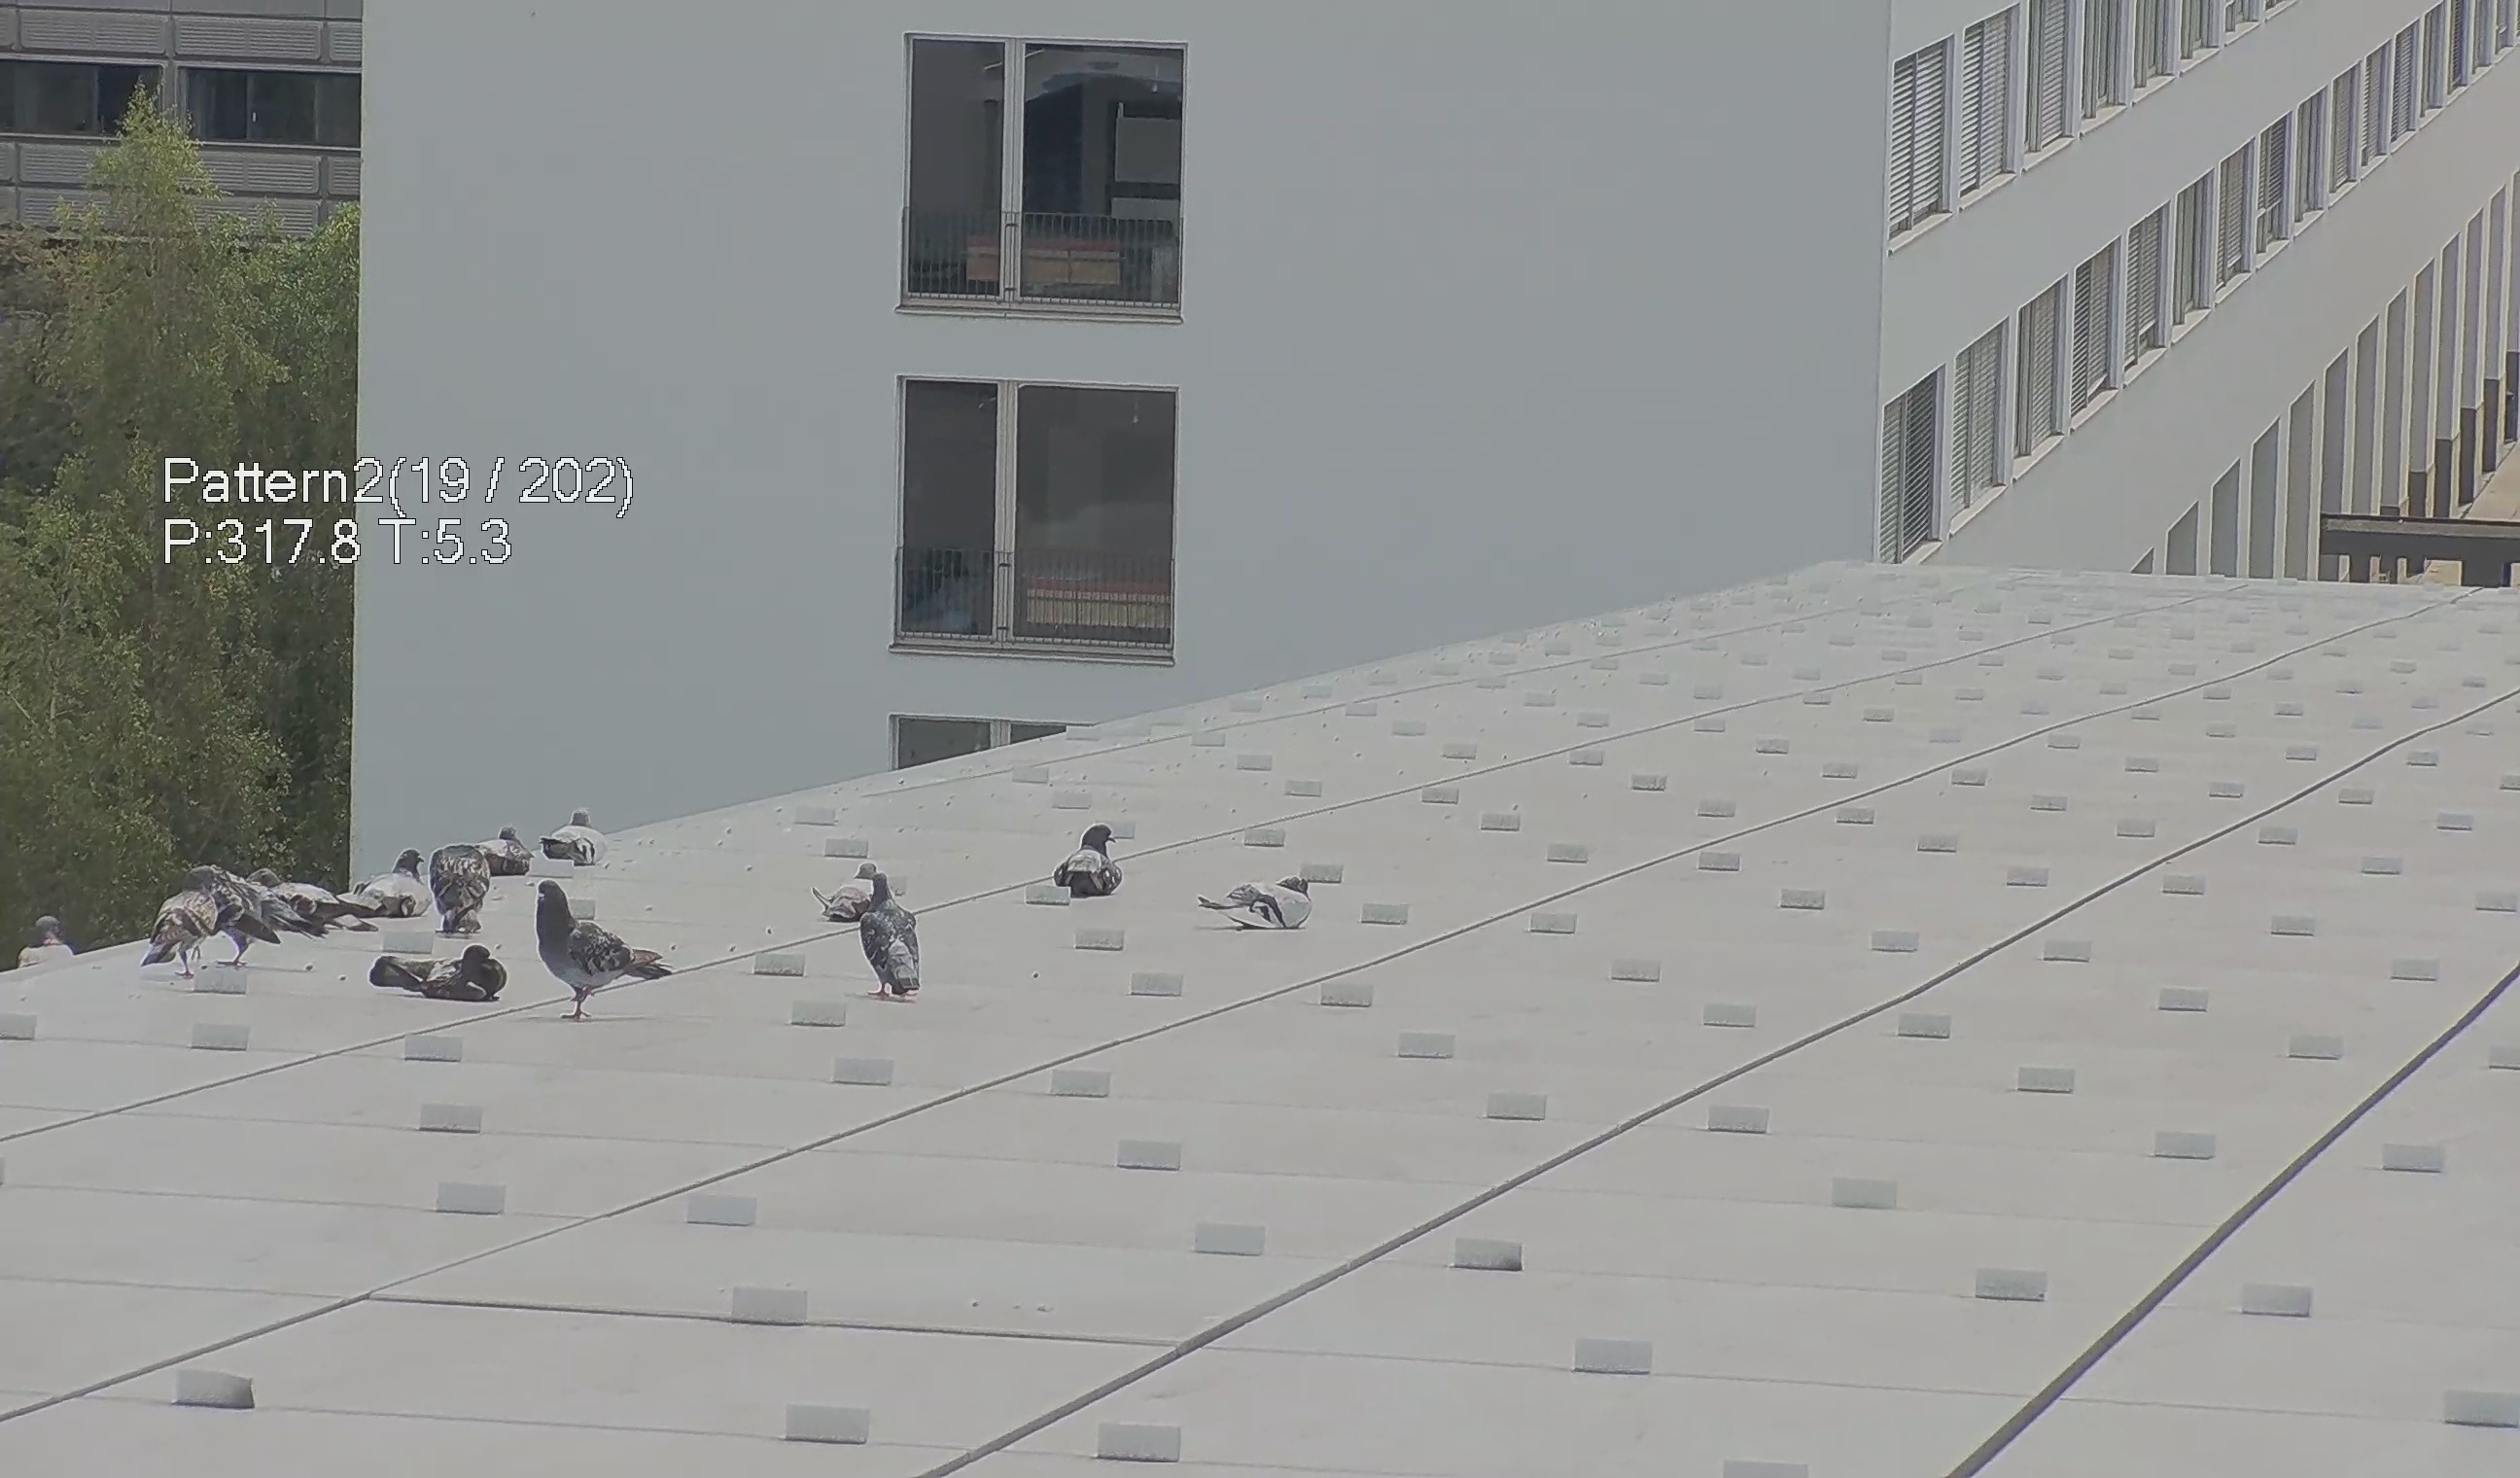Pigeon: (503, 876, 670, 1017), (135, 853, 234, 987), (844, 864, 925, 1017), (213, 864, 325, 973), (364, 936, 528, 1010), (1182, 864, 1329, 943), (241, 866, 368, 934), (424, 827, 499, 938), (1050, 809, 1134, 908), (345, 836, 429, 924), (14, 901, 88, 991), (535, 802, 614, 876), (804, 855, 886, 926), (475, 815, 538, 883)
